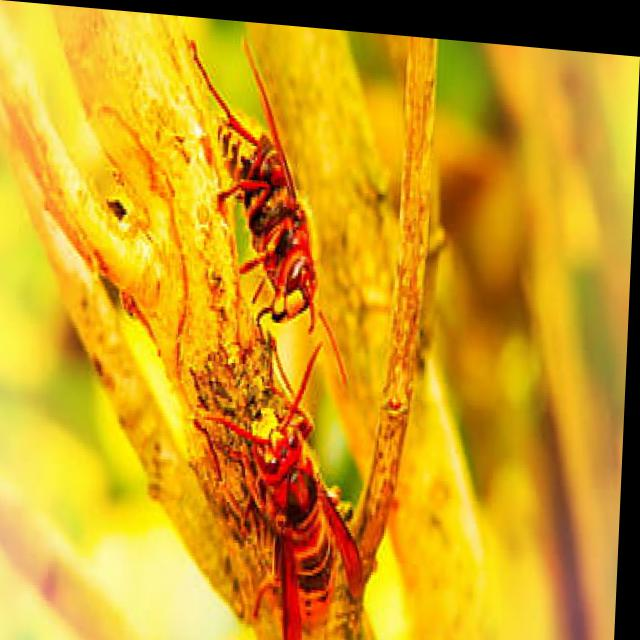Vespa Crabro: (190, 333, 386, 639), (168, 22, 350, 351)
